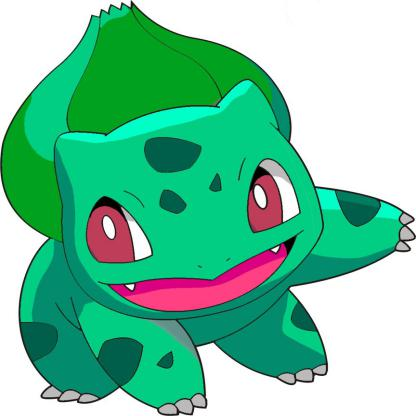Bulbasaur: (10, 38, 411, 416)
